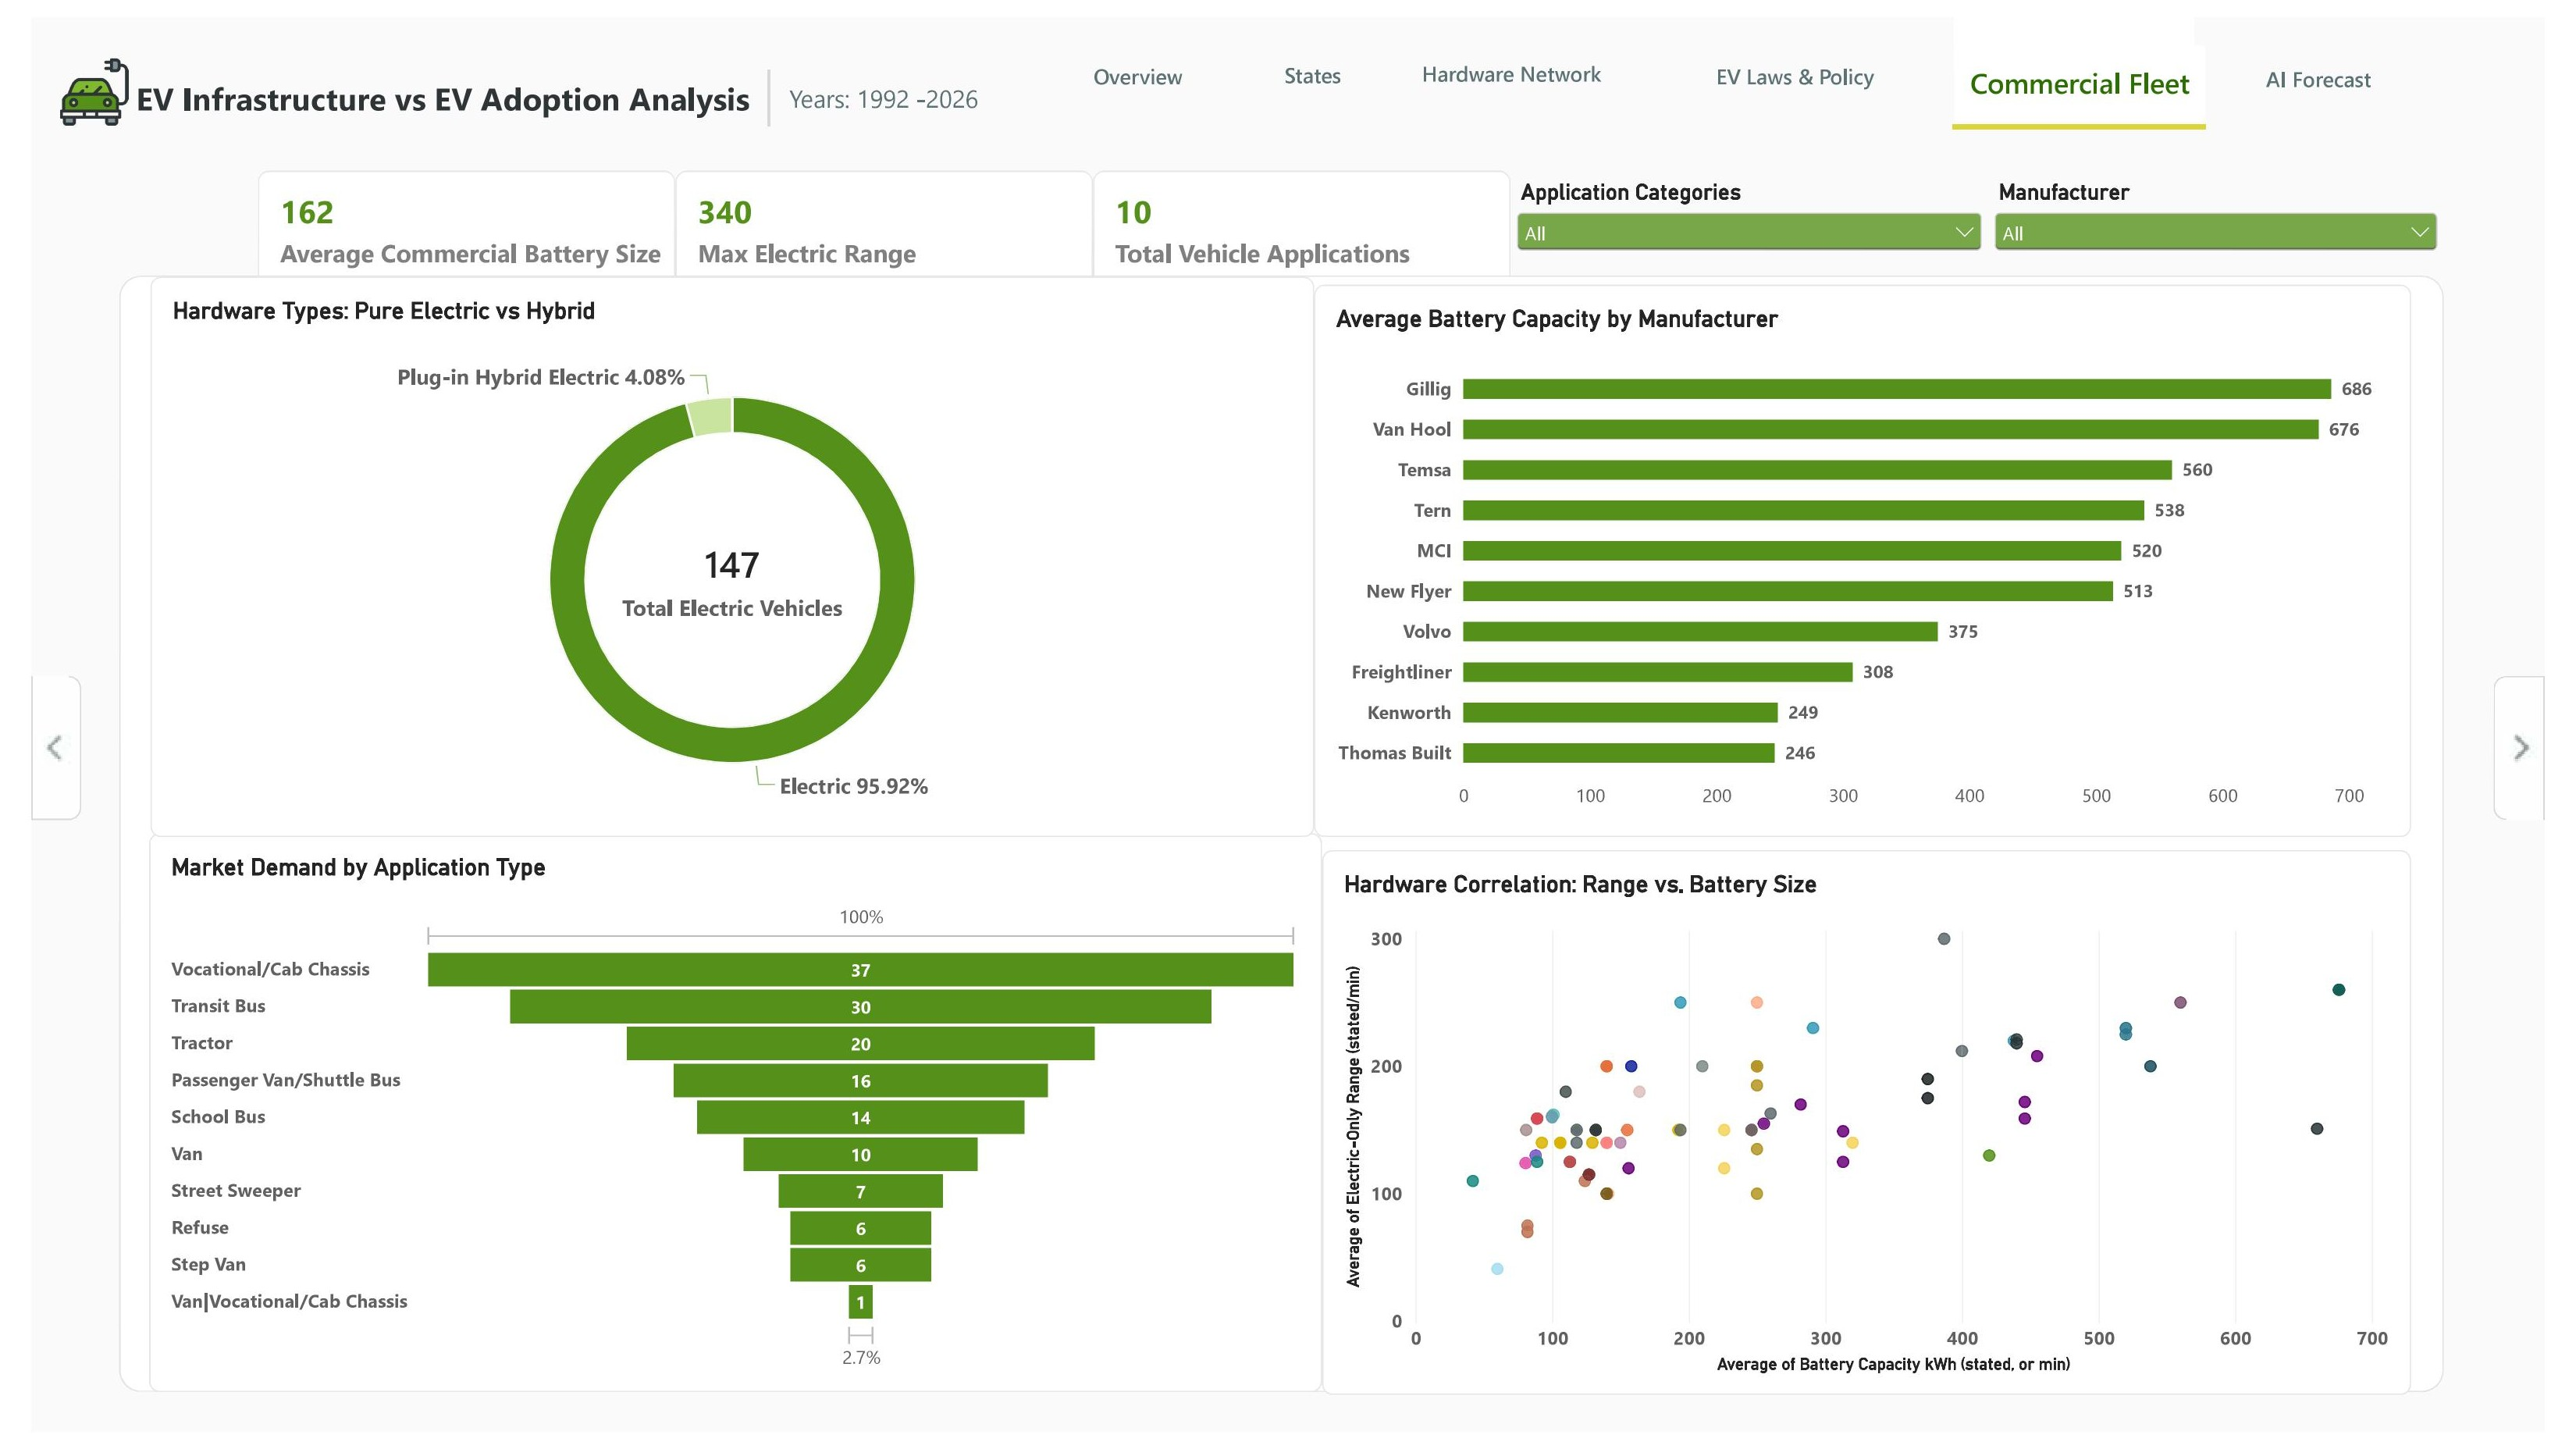

What the dashboard file says about the page in this screenshot:
{"tool":"powerbi","page":{"name":"Commercial Fleet Analysis","canvas":[1920,1080],"ordinal":5},"visuals":[{"type":"cardVisual","fields":{"Data":["Key Measures.Average Commercial Battery Size","Key Measures.Max Electric Range","Key Measures.Total Vehicle Applications"]},"box":[172.7,116.9,957.6,87.2],"z":0},{"type":"shape","box":[66.7,196.7,1776.7,853.3],"z":1000},{"type":"actionButton","box":[0,503.3,38.3,110],"z":2000},{"type":"clusteredBarChart","title":"Average Battery Capacity by Manufacturer","fields":{"Y":["Avg(medium-and-heavy-duty-vehicles-2026-08-25.Battery Capacity kWh (stated, or min))"],"Category":["medium-and-heavy-duty-vehicles-2026-08-25.Manufacturer"]},"box":[979.8,203.8,837.7,422],"z":4000},{"type":"scatterChart","title":"Hardware Correlation: Range vs. Battery Size","fields":{"X":["Avg(medium-and-heavy-duty-vehicles-2026-08-25.Battery Capacity kWh (stated, or min))"],"Y":["Avg(medium-and-heavy-duty-vehicles-2026-08-25.Electric-Only Range (stated/min))"],"Category":["medium-and-heavy-duty-vehicles-2026-08-25.Model"],"Series":["medium-and-heavy-duty-vehicles-2026-08-25.Manufacturer"]},"box":[985.9,636,831.6,415.8],"z":5000},{"type":"funnel","title":"Market Demand by Application Type","fields":{"Category":["medium-and-heavy-duty-vehicles-2026-08-25.Application Categories"],"Y":["CountNonNull(medium-and-heavy-duty-vehicles-2026-08-25.Vehicle ID)"]},"box":[90,622.9,895.7,427.1],"z":6000},{"type":"actionButton","title":"Button Next","box":[1881.2,502.5,38.8,110],"z":7000},{"type":"donutChart","title":"Hardware Types: Pure Electric vs Hybrid","fields":{"Category":["medium-and-heavy-duty-vehicles-2026-08-25.Fuels"],"Y":["CountNonNull(medium-and-heavy-duty-vehicles-2026-08-25.Vehicle ID)"]},"box":[90.6,197.6,889.2,428.1],"z":8000},{"type":"shape","box":[80,36.7,531.7,48.3],"z":9000},{"type":"image","box":[15,31.2,65,51.7],"z":10000},{"type":"shape","box":[578.6,42.9,268.3,36.7],"z":11000},{"type":"shape","box":[556.7,40,13.3,43.3],"z":12000},{"type":"shape","box":[1468.9,0,183.3,45.6],"z":13000},{"type":"actionButton","box":[912.9,18.6,132.2,50],"z":14000},{"type":"shape","box":[1467.8,71.1,193.3,24.4],"z":15000},{"type":"actionButton","box":[780,21.4,131.2,48.8],"z":16000},{"type":"actionButton","box":[1035.7,18.6,190,48.6],"z":17000},{"type":"actionButton","box":[1225.7,21.4,242.9,48.6],"z":18000},{"type":"actionButton","box":[1468.9,21.1,192.2,58.9],"z":19000},{"type":"actionButton","box":[1652.2,23.3,191.1,47.8],"z":20000},{"type":"slicer","fields":{"Values":["medium-and-heavy-duty-vehicles-2026-08-25.Application Categories"]},"box":[1130,122.5,365,80],"z":21000},{"type":"slicer","fields":{"Values":["medium-and-heavy-duty-vehicles-2026-08-25.Manufacturer"]},"box":[1495,122.5,347.5,80],"z":22000}]}

Visuals, with their boxes on the page's 1920x1080 design canvas (x1, y1, x2, y2). These are canvas units, not pixel positions in the 2576x1449 screenshot, which may show the page scaled, cropped or inside an application window:
cardVisual - Key Measures.Average Commercial Battery Size x Key Measures.Max Electric Range: 173:117:1130:204
shape: 67:197:1843:1050
actionButton: 0:503:38:613
"Average Battery Capacity by Manufacturer" clusteredBarChart: 980:204:1818:626
"Hardware Correlation: Range vs. Battery Size" scatterChart: 986:636:1818:1052
"Market Demand by Application Type" funnel: 90:623:986:1050
"Button Next" actionButton: 1881:502:1920:612
"Hardware Types: Pure Electric vs Hybrid" donutChart: 91:198:980:626
shape: 80:37:612:85
image: 15:31:80:83
shape: 579:43:847:80
shape: 557:40:570:83
shape: 1469:0:1652:46
actionButton: 913:19:1045:69
shape: 1468:71:1661:96
actionButton: 780:21:911:70
actionButton: 1036:19:1226:67
actionButton: 1226:21:1469:70
actionButton: 1469:21:1661:80
actionButton: 1652:23:1843:71
slicer - medium-and-heavy-duty-vehicles-2026-08-25.Application Categories: 1130:122:1495:202
slicer - medium-and-heavy-duty-vehicles-2026-08-25.Manufacturer: 1495:122:1842:202
